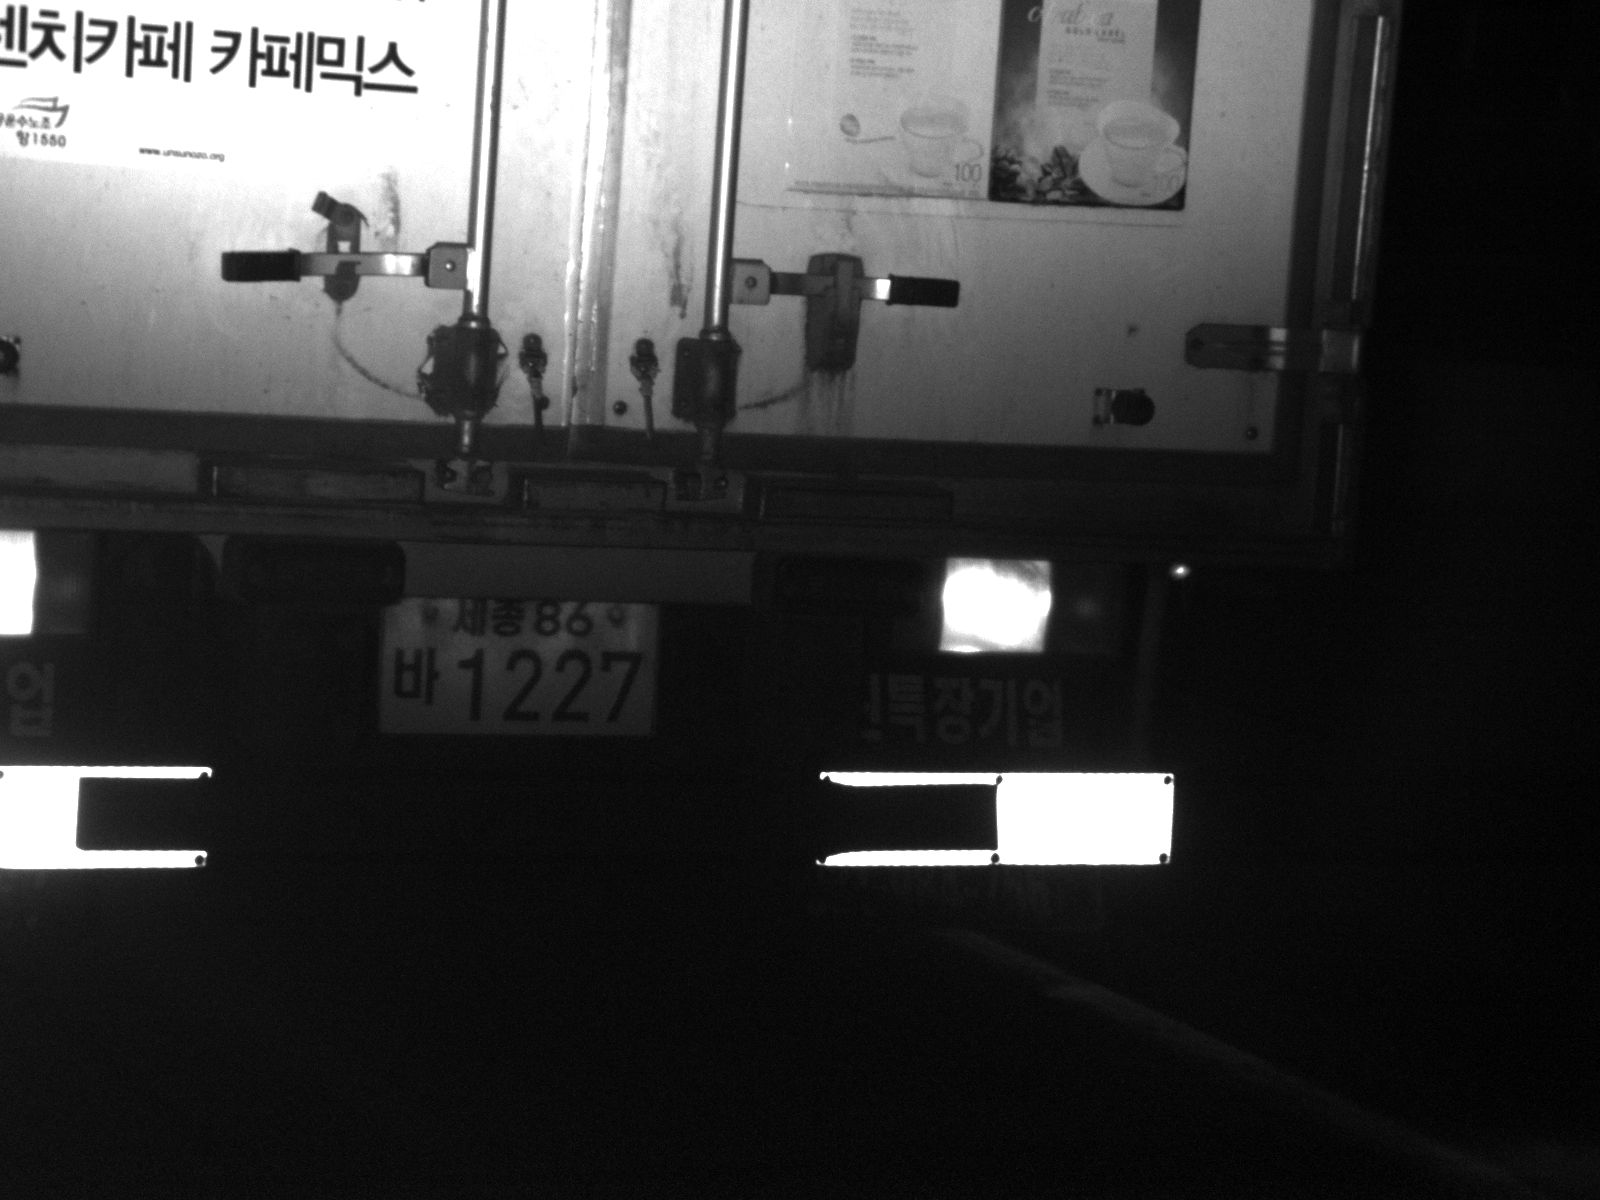car: (1, 1, 1409, 912)
plate: (375, 588, 664, 745)
